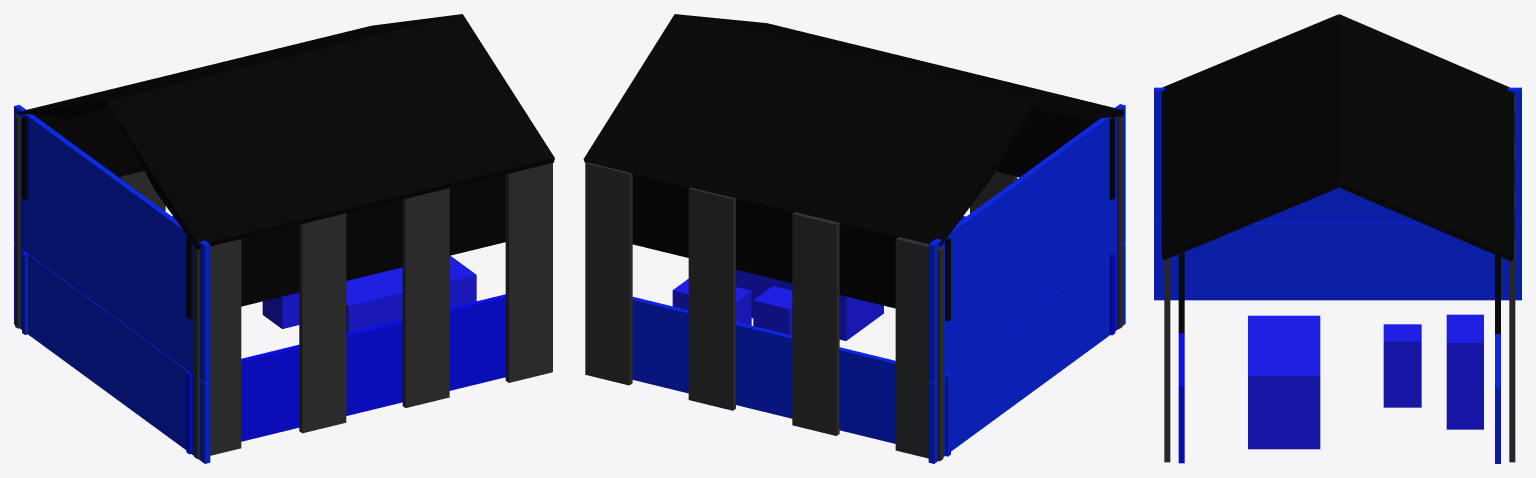
Rendered from warehouse.glb.
3 views of the same model, side by side, from view 1: azimuth 30°, elevation 25°; view 2: azimuth 150°, elevation 25°; view 3: azimuth 270°, elevation 25° (orthographic). The views are drawn at different scales.
Parts seen in each view (by area): view 1: Cube.302, Cube.288, Cube.291, Cube.289, Cube.293, Cube.290, Cube.292, Cube.294, Cube.301, Cube.307, Cube.295, Cube.300 (+2 smaller); view 2: Cube.301, Cube.288, Cube.296, Cube.295, Cube.297, Cube.298, Cube.001, Cube.300, Cube.302, Cube.289, Cube.307, Cube.309 (+4 smaller); view 3: Cube.302, Cube.301, Cube.288, Cube.307, Cube.305, Cube.309, Cube.001, Cube.290, Cube.291, Cube.296, Cube.289, Cube.295.
Boxes of the visible parts, bbox=[...] form: Cube.302: bbox=[107, 15, 554, 249]; Cube.288: bbox=[14, 104, 210, 463]; Cube.291: bbox=[186, 294, 505, 454]; Cube.289: bbox=[186, 174, 505, 319]; Cube.293: bbox=[299, 213, 346, 433]; Cube.290: bbox=[505, 163, 552, 382]; Cube.292: bbox=[402, 188, 449, 407]; Cube.294: bbox=[194, 239, 241, 458]; Cube.301: bbox=[16, 14, 462, 118]; Cube.307: bbox=[346, 255, 476, 332]; Cube.295: bbox=[22, 107, 143, 199]; Cube.300: bbox=[15, 115, 20, 328]; Cube.301: bbox=[583, 14, 1033, 246]; Cube.288: bbox=[928, 104, 1125, 463]; Cube.296: bbox=[632, 297, 950, 456]; Cube.295: bbox=[632, 174, 950, 321]; Cube.297: bbox=[792, 212, 839, 435]; Cube.298: bbox=[688, 187, 735, 410]; Cube.001: bbox=[585, 162, 632, 385]; Cube.300: bbox=[895, 237, 943, 461]; Cube.302: bbox=[675, 14, 1124, 119]; Cube.289: bbox=[996, 107, 1115, 199]; Cube.307: bbox=[736, 269, 883, 340]; Cube.309: bbox=[753, 286, 792, 335]; Cube.302: bbox=[1161, 14, 1339, 260]; Cube.301: bbox=[1338, 14, 1514, 261]; Cube.288: bbox=[1154, 87, 1521, 300]; Cube.307: bbox=[1248, 315, 1320, 449]; Cube.305: bbox=[1446, 314, 1483, 429]; Cube.309: bbox=[1383, 324, 1421, 407]; Cube.001: bbox=[1509, 238, 1515, 462]; Cube.290: bbox=[1164, 258, 1170, 462]; Cube.291: bbox=[1178, 333, 1184, 463]; Cube.296: bbox=[1495, 334, 1500, 463]; Cube.289: bbox=[1178, 252, 1184, 332]; Cube.295: bbox=[1495, 255, 1500, 333].
Bounding box in the file's own units: 5.53 × 4.35 × 5.12.
